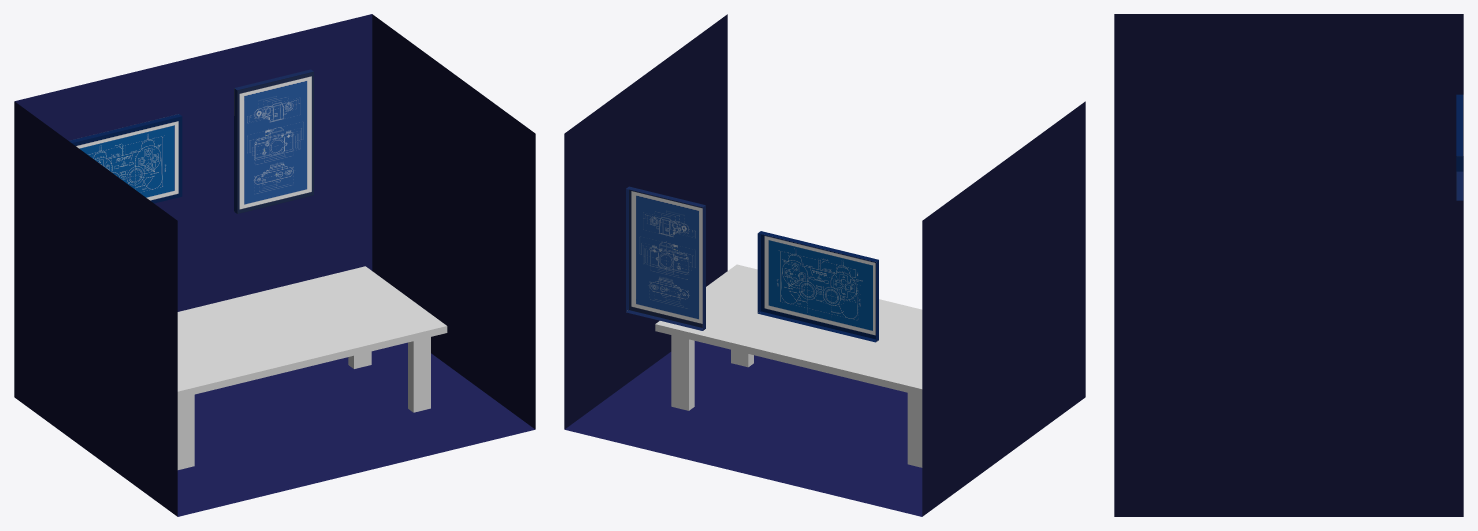
File: Cuarto.glb
The picture shows the model from 3 angles, left to right: view 1: azimuth 30°, elevation 25°; view 2: azimuth 150°, elevation 25°; view 3: azimuth 270°, elevation 25°; orthographic projection. The views are drawn at different scales.
Visible parts, largest first — view 1: Cube.007, Table, Cube.009, Cube.010; view 2: Cube.007, Table, Cube.010, Cube.009; view 3: Cube.007, Cube.010.
Boxes of the visible parts, bbox=[...] form: Cube.007: bbox=[14, 14, 535, 516]; Table: bbox=[177, 266, 447, 469]; Cube.009: bbox=[234, 69, 313, 213]; Cube.010: bbox=[69, 114, 182, 203]; Cube.007: bbox=[564, 14, 1085, 516]; Table: bbox=[655, 264, 922, 467]; Cube.010: bbox=[757, 231, 878, 342]; Cube.009: bbox=[626, 186, 705, 330]; Cube.007: bbox=[1114, 14, 1463, 516]; Cube.010: bbox=[1456, 94, 1463, 171].
Size of the model in its own units: 14.17 by 11.3 by 11.21.
5 materials, 2 textured.
